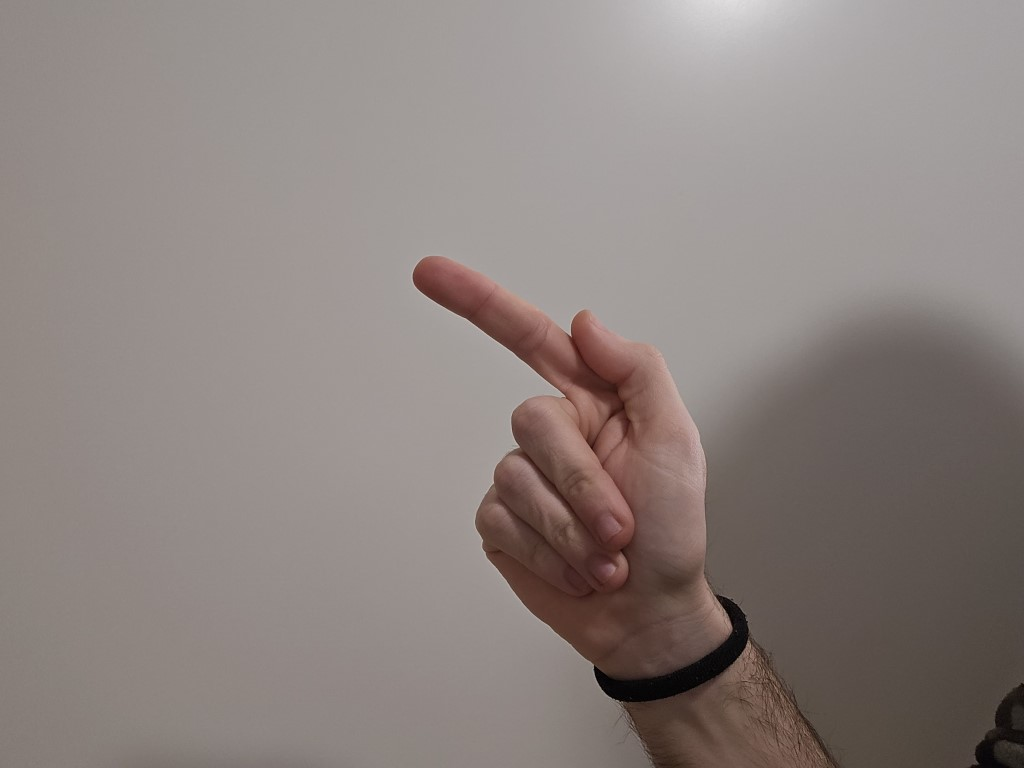g: (367, 215, 718, 637)
